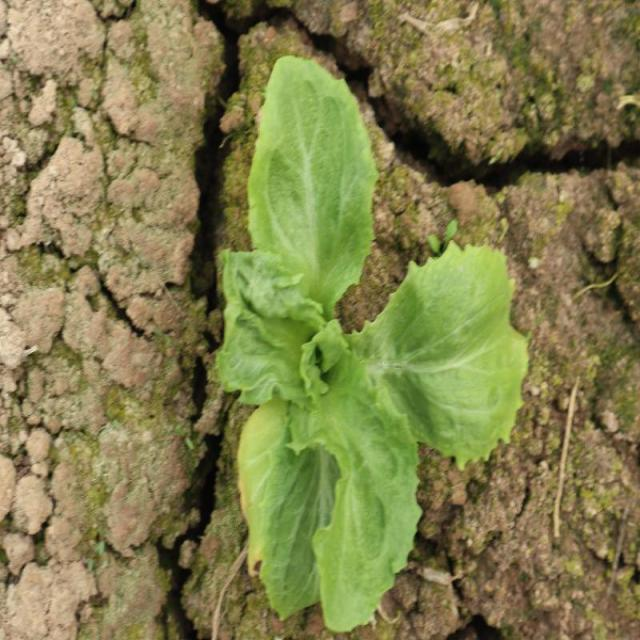crop: (215, 54, 529, 624)
